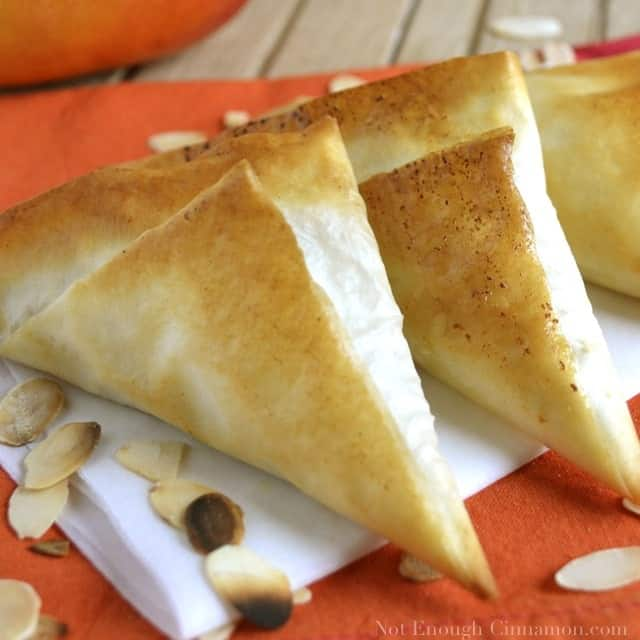samosa: (174, 117, 500, 620), (441, 34, 637, 499)
